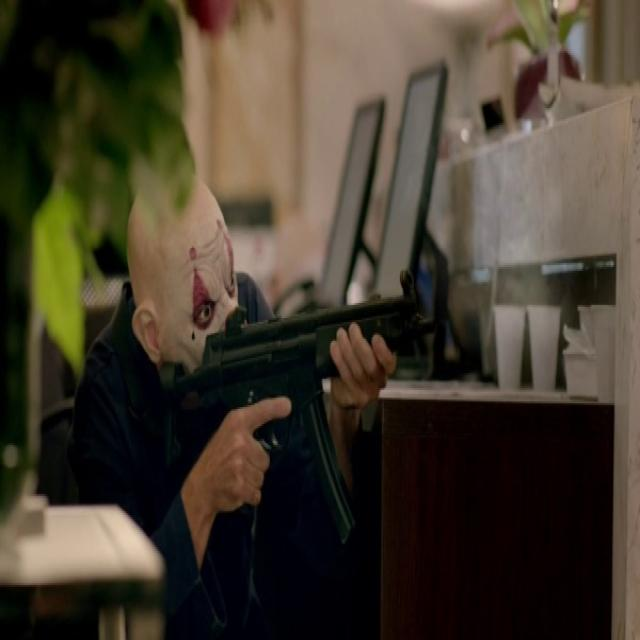rifle: (156, 261, 441, 550)
